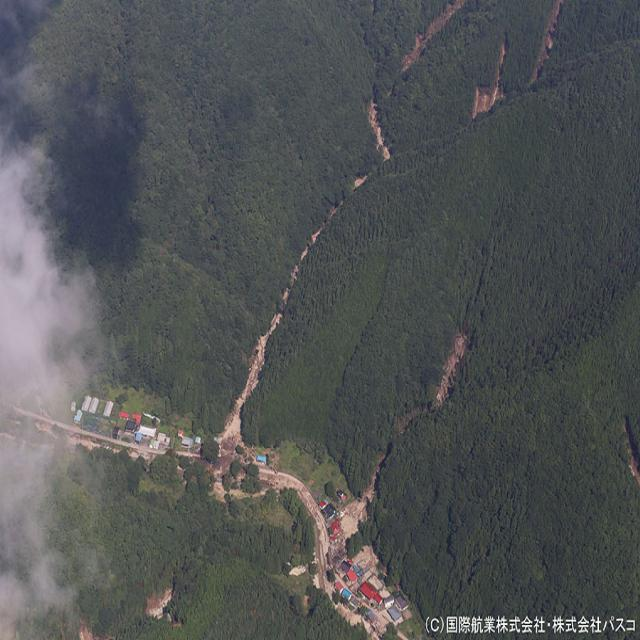Debris-flow: (220, 225, 322, 447), (401, 0, 465, 70), (341, 463, 379, 538), (435, 330, 469, 406), (530, 0, 561, 82), (472, 43, 506, 117), (368, 99, 390, 161), (624, 420, 640, 485), (354, 177, 368, 188)
